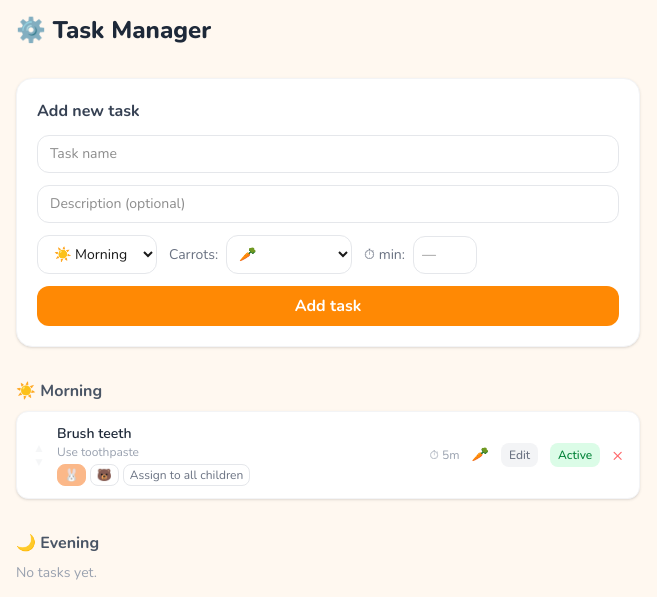
Test: TaskManager assignments › keeps all current children explicitly assigned until the parent restores global visibility
expect the button titled "Remove Alice" is shown: met, box x1=57 y1=464 x2=86 y2=486
Step 1. Click the button titled "Add Bob" → (104, 475), box x1=90 y1=464 x2=119 y2=486
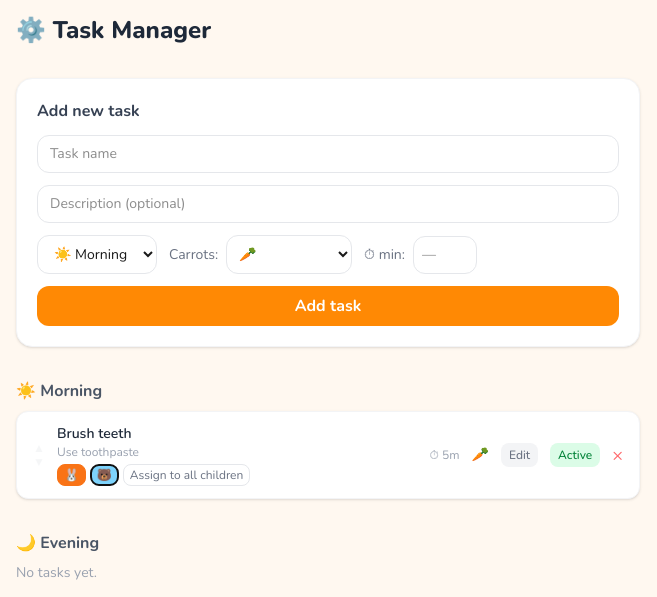
Step 2. Click the button "Assign to all children" → (187, 475), box x1=123 y1=464 x2=250 y2=486
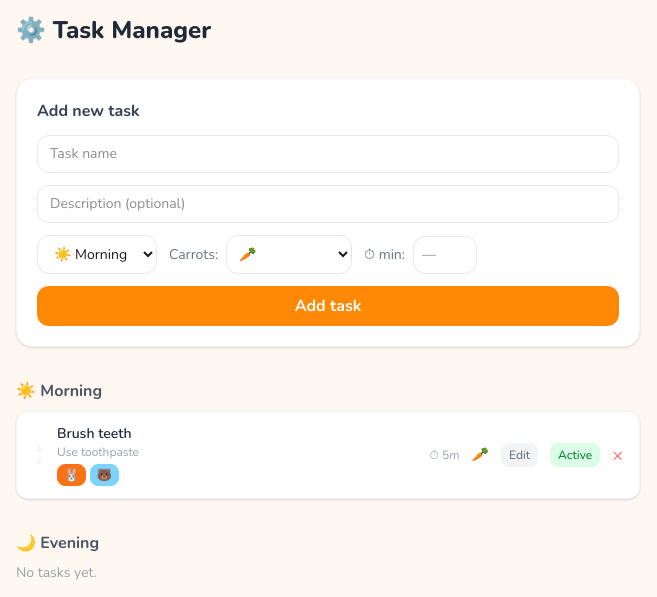
expect the button "Assign to all children" is gone: met
